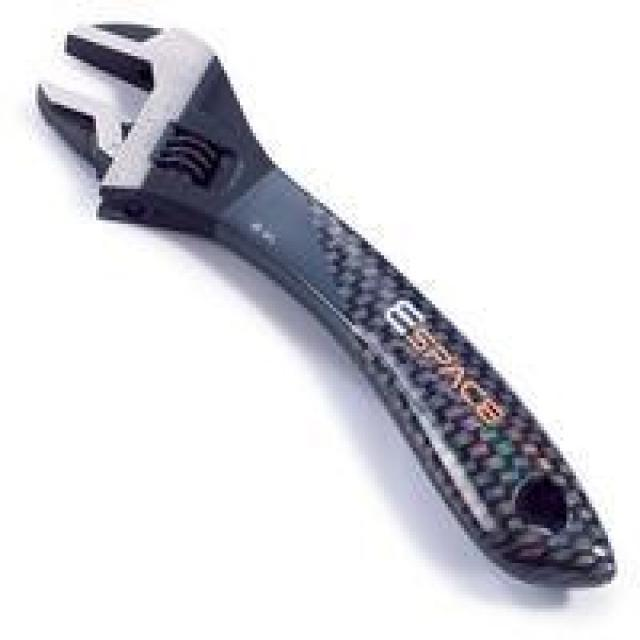wrench: (31, 18, 622, 592)
